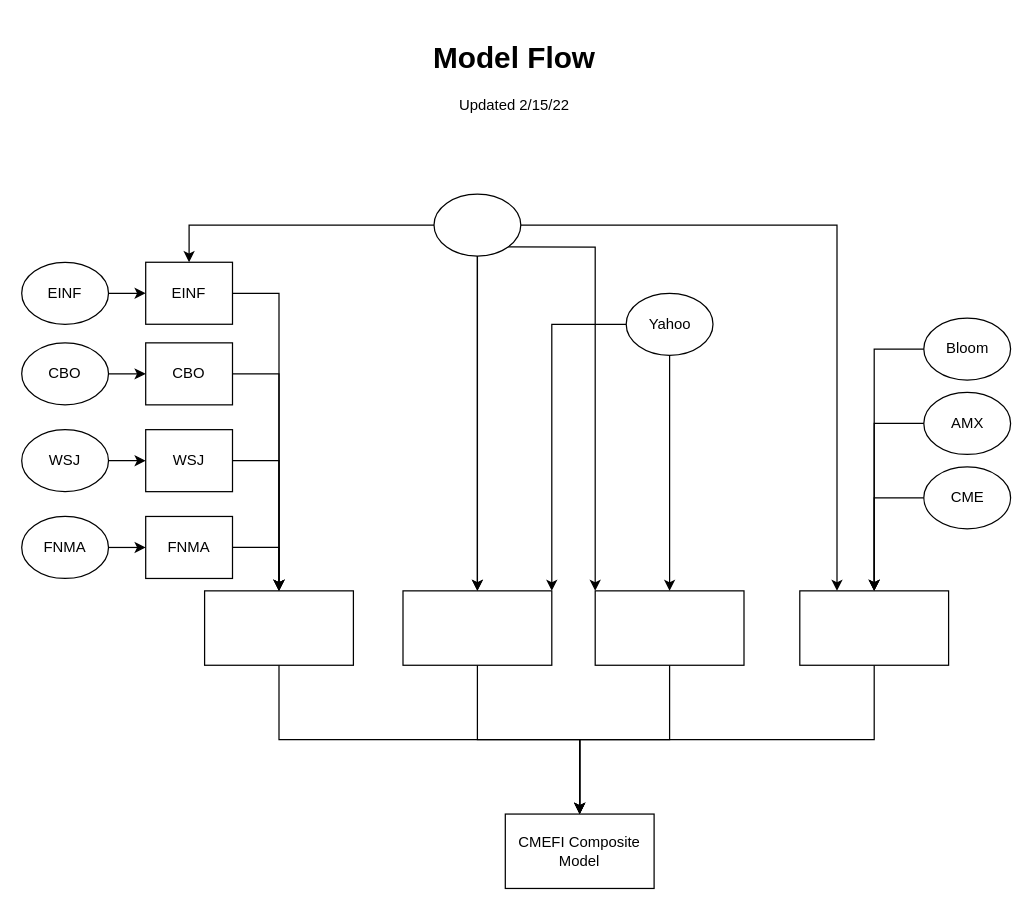
The diagram is 1033 pixels wide and 910 high, and some of its shapes have lost their labels. Here are the shapes that lost their labels. From the top down, the centre of each, then its label:
At (x=477, y=224): "FRED".
At (x=278, y=627): "External Forecasts".
At (x=477, y=627): "CMEFI Structural Model".
At (x=669, y=627): "CMEFI Nowcast Model".
At (x=874, y=627): "CMEFI Consensus Futures Model".
